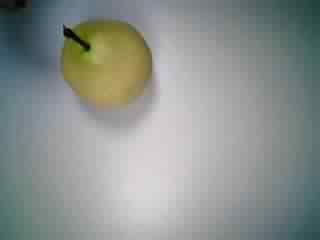pear: (52, 8, 158, 115)
